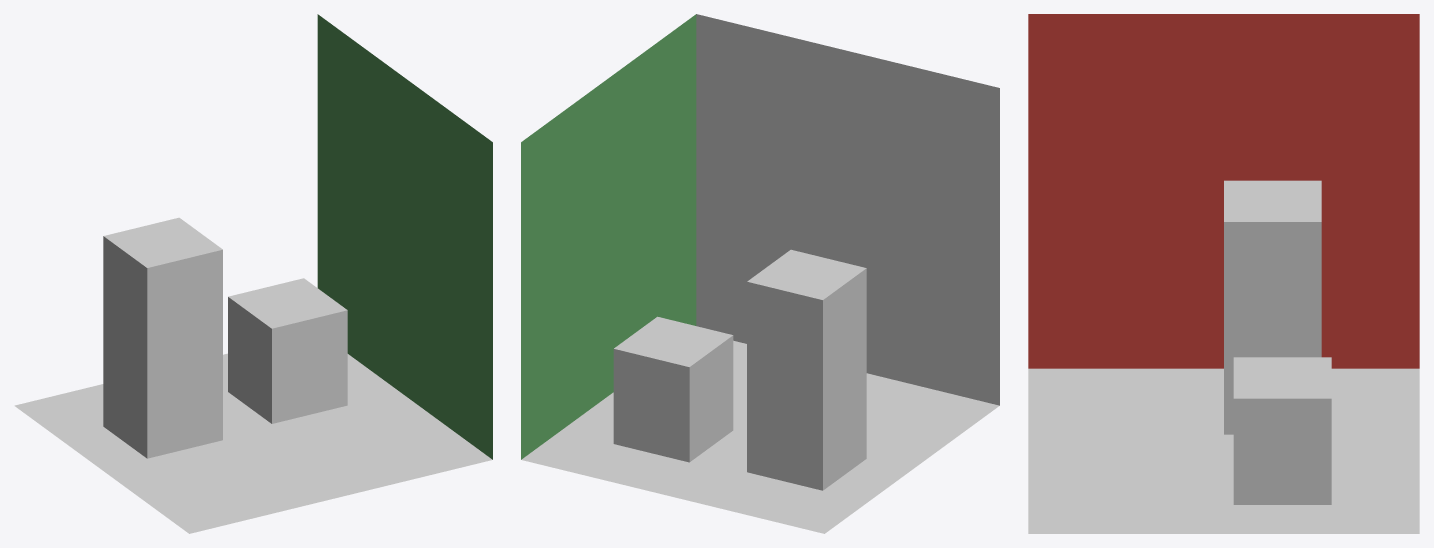
Rendered from CornellBox.gltf.
3 renders of one model, left to right at view 1: azimuth 30°, elevation 25°; view 2: azimuth 150°, elevation 25°; view 3: azimuth 270°, elevation 25°, orthographic. The views are drawn at different scales.
Parts seen in each view (by area): view 1: cornell; view 2: cornell; view 3: cornell.
Boxes of the visible parts, left/top/right/bottom form: cornell: left=14, top=14, right=492, bottom=533; cornell: left=521, top=14, right=999, bottom=533; cornell: left=1028, top=14, right=1419, bottom=533.
Size of the model in its own units: 2 by 2 by 2.
